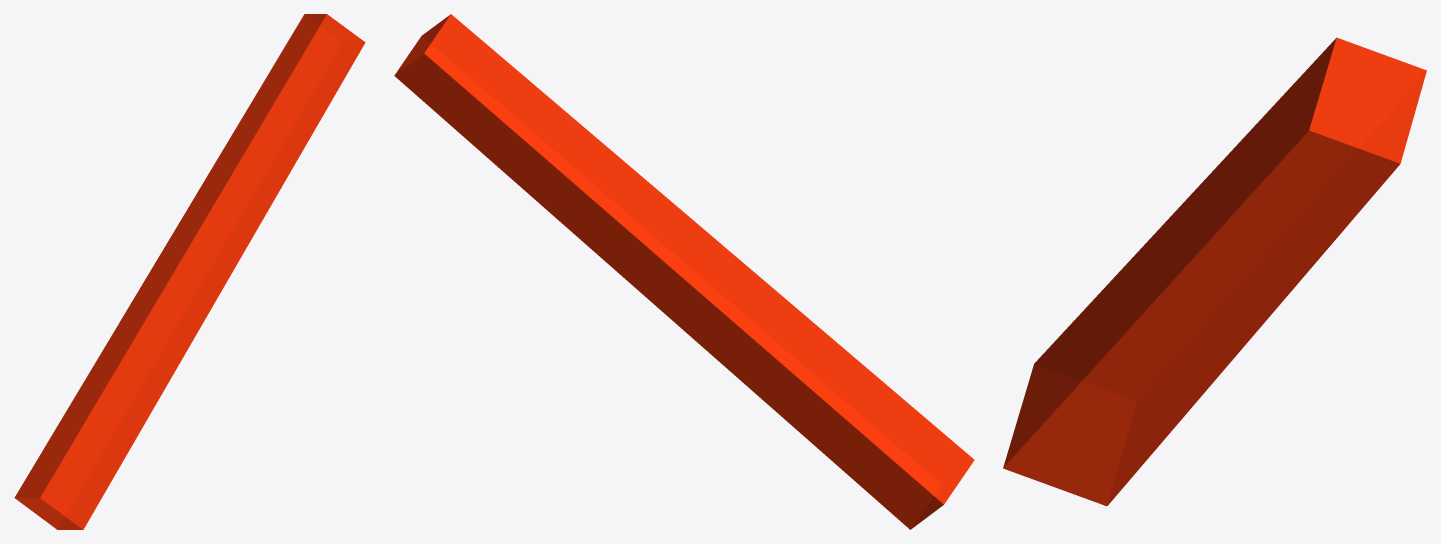
The model's file is Event_421115418_EBrechit_10.fbx.
3 views of the same model, side by side, from view 1: azimuth 30°, elevation 25°; view 2: azimuth 150°, elevation 25°; view 3: azimuth 270°, elevation 25° (orthographic). The views are drawn at different scales.
Visible parts, largest first — view 1: Model; view 2: Model; view 3: Model.
Part boxes in pixels (x1,y1,x2,y2): Model: (14,14,365,529); Model: (394,14,974,529); Model: (1003,37,1426,506).
Size of the model in its own units: 0.5174 by 0.4942 by 0.2409.
